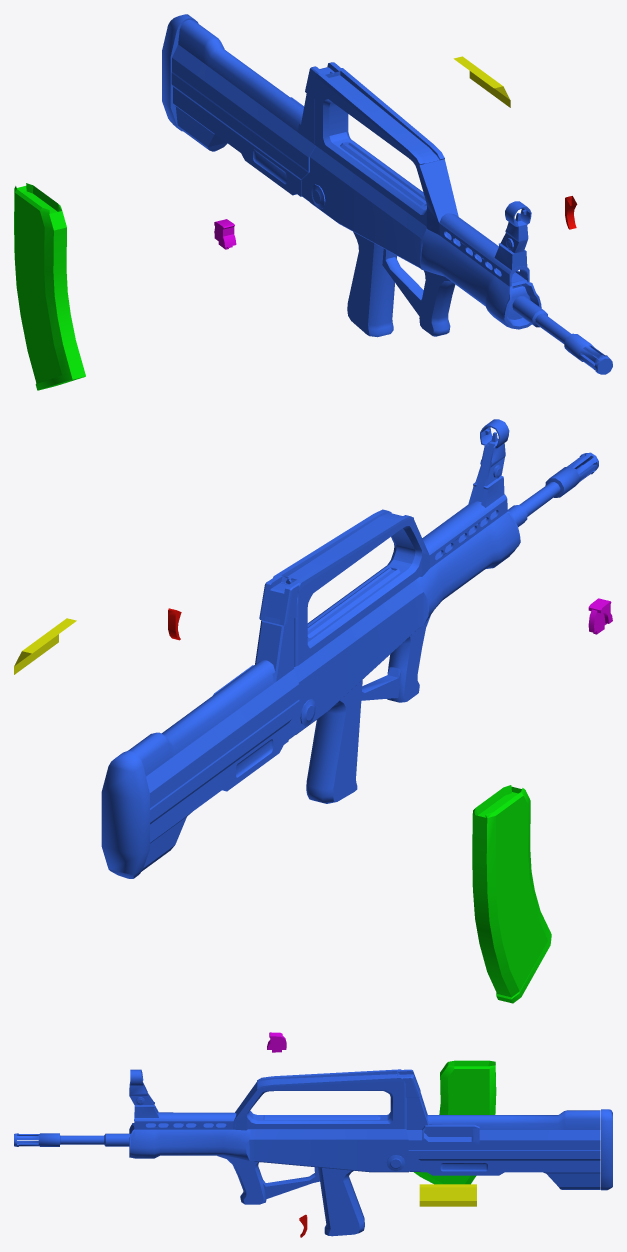
Rendered from Base QBZ2 Opt for texture.fbx.
3 renders of one model, top to bottom at view 1: azimuth 30°, elevation 25°; view 2: azimuth 150°, elevation 25°; view 3: azimuth 270°, elevation 25°, orthographic. The views are drawn at different scales.
Parts seen in each view (by area): view 1: Body; view 2: Body; view 3: Body.
Part boxes in pixels (x1,y1,x2,y2): Body: [14, 14, 612, 390]; Body: [14, 419, 612, 1003]; Body: [14, 1032, 612, 1237].
Bounding box in the file's own units: 50.61 × 32.07 × 83.64.
